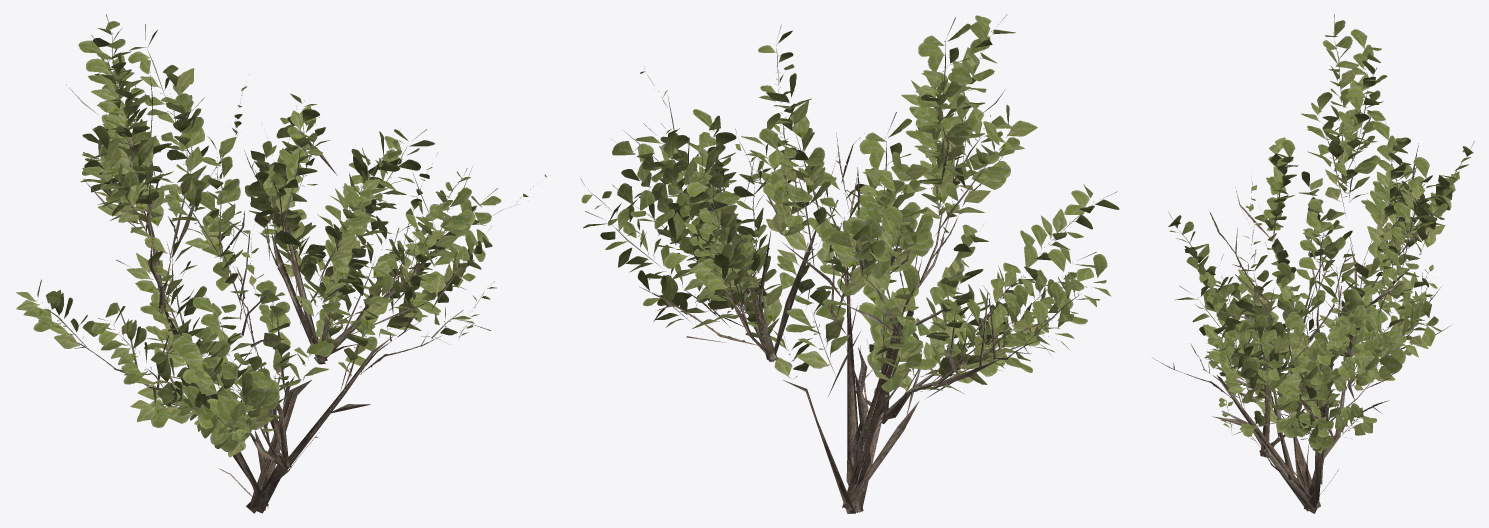
3 renders of one model, left to right at view 1: azimuth 30°, elevation 25°; view 2: azimuth 150°, elevation 25°; view 3: azimuth 270°, elevation 25°, orthographic. The views are drawn at different scales.
Visible parts, largest first — view 1: searsia_lucida__c_lod0; view 2: searsia_lucida__c_lod0; view 3: searsia_lucida__c_lod0.
Part boxes in pixels (left/top/right/bottom): searsia_lucida__c_lod0: left=16, top=14, right=547, bottom=513; searsia_lucida__c_lod0: left=580, top=14, right=1119, bottom=513; searsia_lucida__c_lod0: left=1153, top=14, right=1474, bottom=513.
Bounding box in the file's own units: 1.04 × 1.04 × 0.707.
2 materials, 2 textured.
